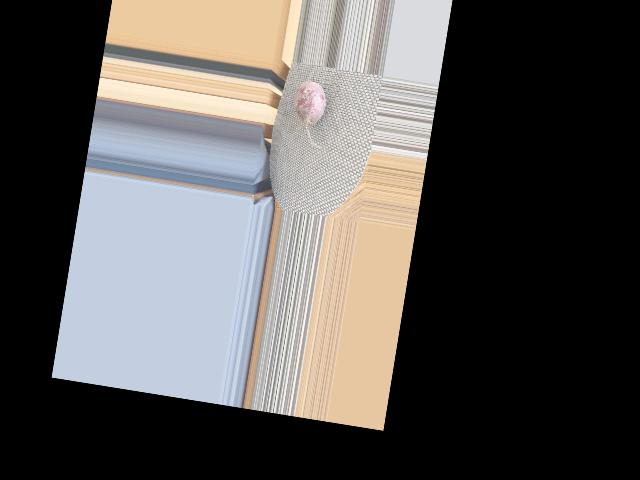beet: (287, 79, 332, 148)
